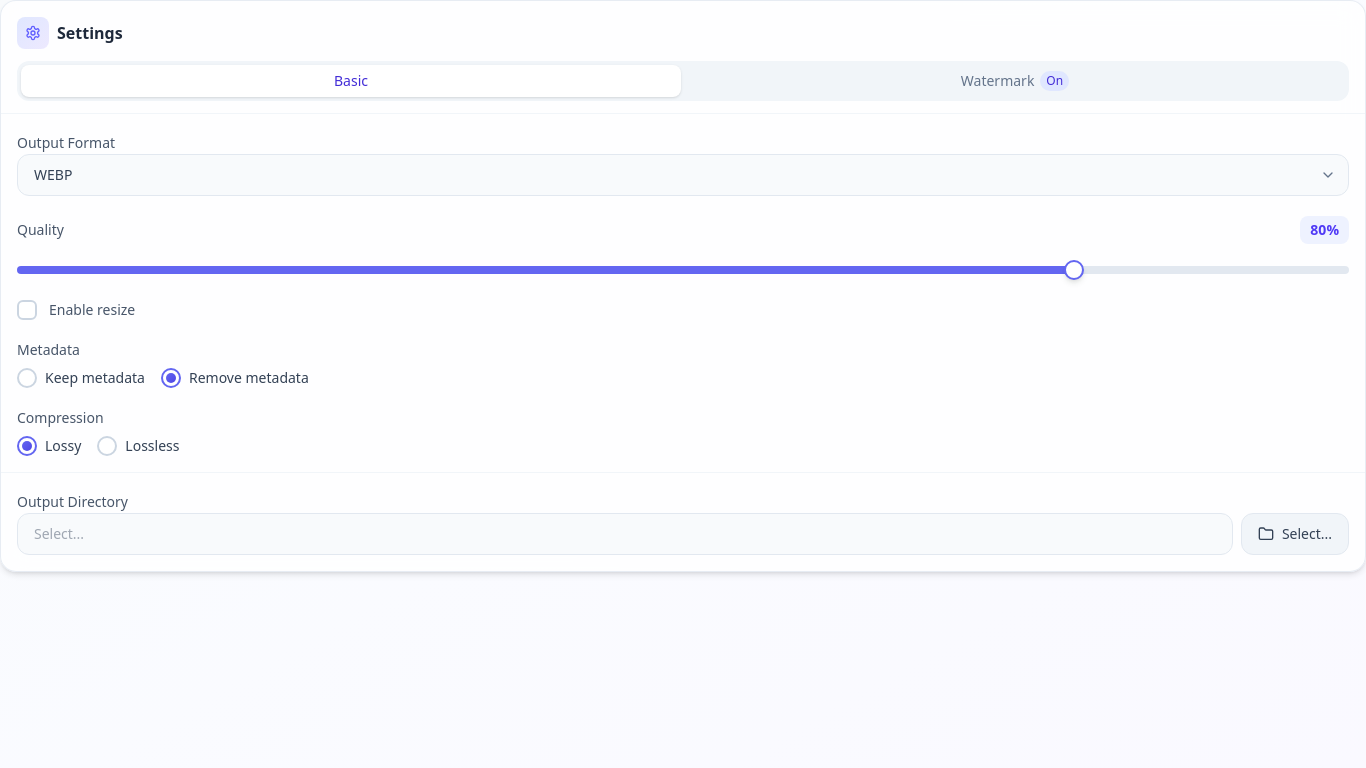
Scenario: SettingsPanel › ウォーターマーク › 敷き詰め › 既定は 1 か所で、位置と余白を出す
Click the tab "Watermark On". click: (1015, 81)
box: [685,65,1345,97]
(page scrolled)
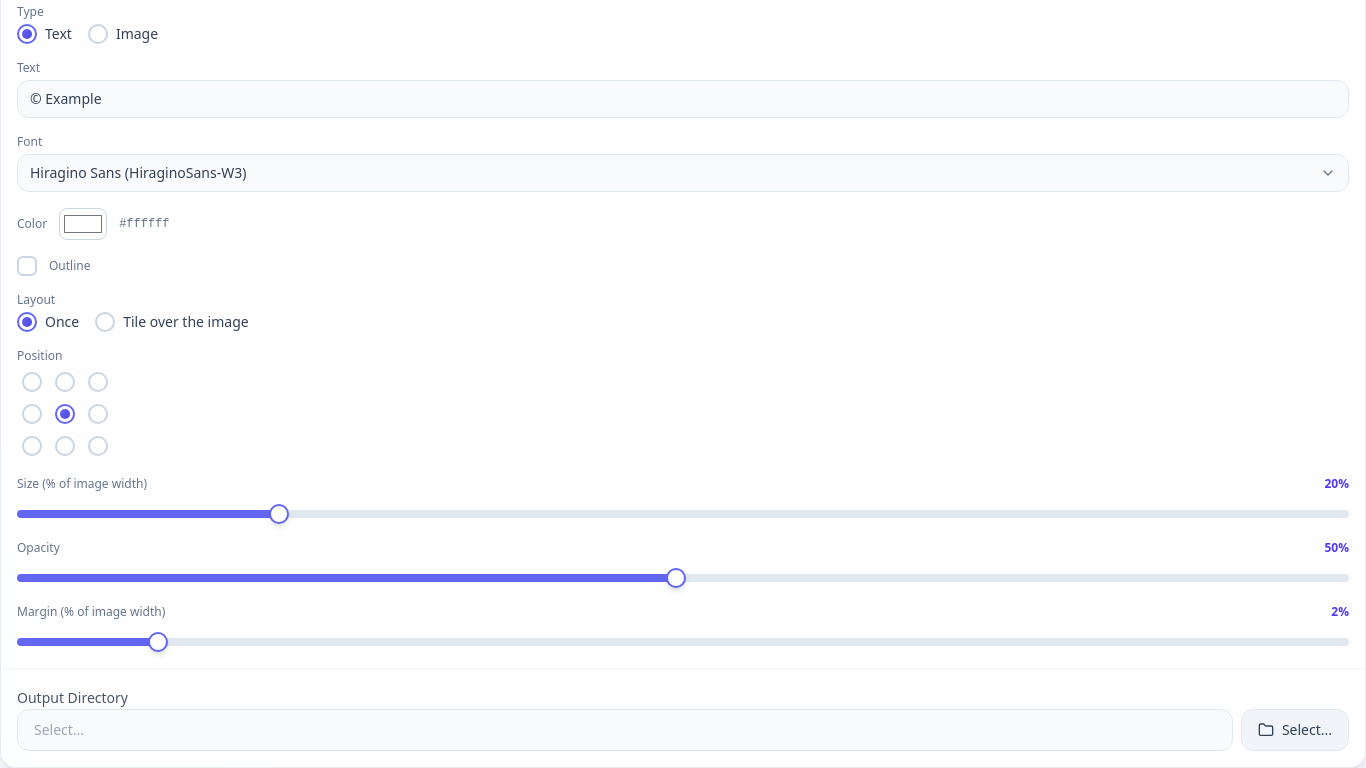
Now the radio button labelled "Once" is checked, box [17,312,37,332]
Now the element "Position" is shown, box [17,347,108,456]
Now the slider labelled "Margin (% of image width)" is shown, box [17,638,1349,646]
